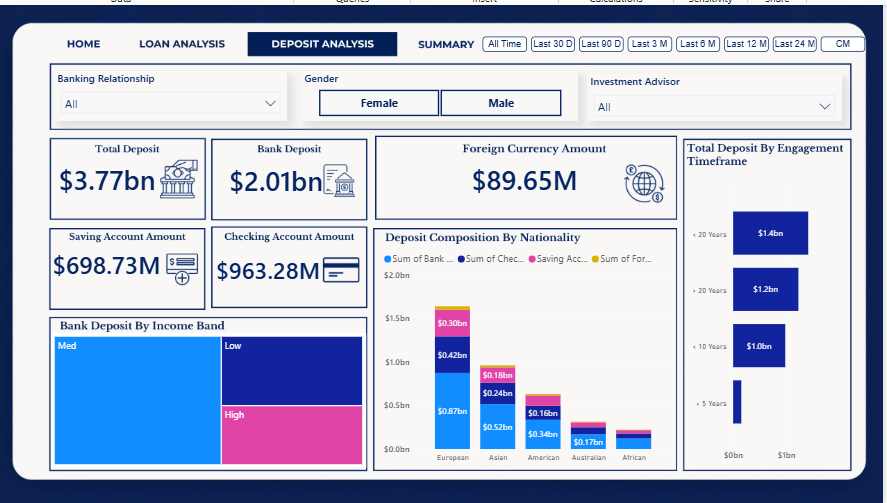

What the dashboard file says about the page in this screenshot:
{"tool":"powerbi","page":{"name":"Deposit Analysis","canvas":[1280,720],"ordinal":2},"visuals":[{"type":"actionButton","box":[76.3,40.3,99.4,40.3],"z":0},{"type":"actionButton","box":[195.8,30.2,148.3,50.4],"z":1000},{"type":"actionButton","box":[593.3,30.2,97.9,50.4],"z":2000},{"type":"card","fields":{"Values":["public customer.Total Deposit"]},"box":[75.3,214.8,172.8,71.6],"z":3000},{"type":"card","fields":{"Values":["Sum(public customer.Bank Deposits)"]},"box":[318.2,216,172.8,72],"z":4000},{"type":"card","fields":{"Values":["public customer.Saving Account Amount"]},"box":[59,339.8,203,69.1],"z":5000},{"type":"card","fields":{"Values":["Sum(public customer.Checking Accounts)"]},"box":[306.7,345.6,172.8,72],"z":6000},{"type":"card","fields":{"Values":["Sum(public customer.Foreign Currency Account)"]},"box":[597.6,214.6,329.8,72],"z":7000},{"type":"treemap","fields":{"Values":["Sum(public customer.Bank Deposits)"],"Group":["public customer.Income Band"]},"box":[80.6,472.3,453.6,194.4],"z":8000},{"type":"columnChart","title":"Bank Loan By Income Band ","fields":{"Category":["public customer.Nationality"],"Y":["Sum(public customer.Bank Deposits)","Sum(public customer.Checking Accounts)","public customer.Saving Account Amount","Sum(public customer.Foreign Currency Account)"]},"box":[554.4,345.6,423.4,321.1],"z":9000},{"type":"clusteredBarChart","title":"Bank Loan By Income Band ","fields":{"Y":["public customer.Total Deposit"],"Category":["public customer.Engagement Timeframe"]},"box":[997.9,252,230.4,414.7],"z":10000},{"type":"slicer","title":"Banking Relationship","fields":{"Values":["public customer.BRId"]},"box":[85.2,95.1,335.8,71.6],"z":11000},{"type":"slicer","title":"Gender","fields":{"Values":["public customer.GenderId"]},"box":[440.7,95.1,398.8,71.6],"z":12000},{"type":"slicer","title":"Investment Advisor","fields":{"Values":["public customer.IAId"]},"box":[851.9,100,366.7,66.7],"z":13000},{"type":"ChicletSlicer1448559807354","fields":{"Category":["Period Filter.Period"]},"box":[694.1,37.4,567.4,47.5],"z":14000}]}

Visuals, with their boxes on the page's 1280x720 design canvas (x1, y1, x2, y2). These are canvas units, not pixel positions in the 887x503 screenshot, which may show the page scaled, cropped or inside an application window:
actionButton: <bbox>76, 40, 176, 81</bbox>
actionButton: <bbox>196, 30, 344, 81</bbox>
actionButton: <bbox>593, 30, 691, 81</bbox>
card - public customer.Total Deposit: <bbox>75, 215, 248, 286</bbox>
card - Sum(public customer.Bank Deposits): <bbox>318, 216, 491, 288</bbox>
card - public customer.Saving Account Amount: <bbox>59, 340, 262, 409</bbox>
card - Sum(public customer.Checking Accounts): <bbox>307, 346, 480, 418</bbox>
card - Sum(public customer.Foreign Currency Account): <bbox>598, 215, 927, 287</bbox>
treemap - Sum(public customer.Bank Deposits) x public customer.Income Band: <bbox>81, 472, 534, 667</bbox>
"Bank Loan By Income Band " columnChart: <bbox>554, 346, 978, 667</bbox>
"Bank Loan By Income Band " clusteredBarChart: <bbox>998, 252, 1228, 667</bbox>
"Banking Relationship" slicer: <bbox>85, 95, 421, 167</bbox>
"Gender" slicer: <bbox>441, 95, 840, 167</bbox>
"Investment Advisor" slicer: <bbox>852, 100, 1219, 167</bbox>
ChicletSlicer1448559807354 - Period Filter.Period: <bbox>694, 37, 1262, 85</bbox>
